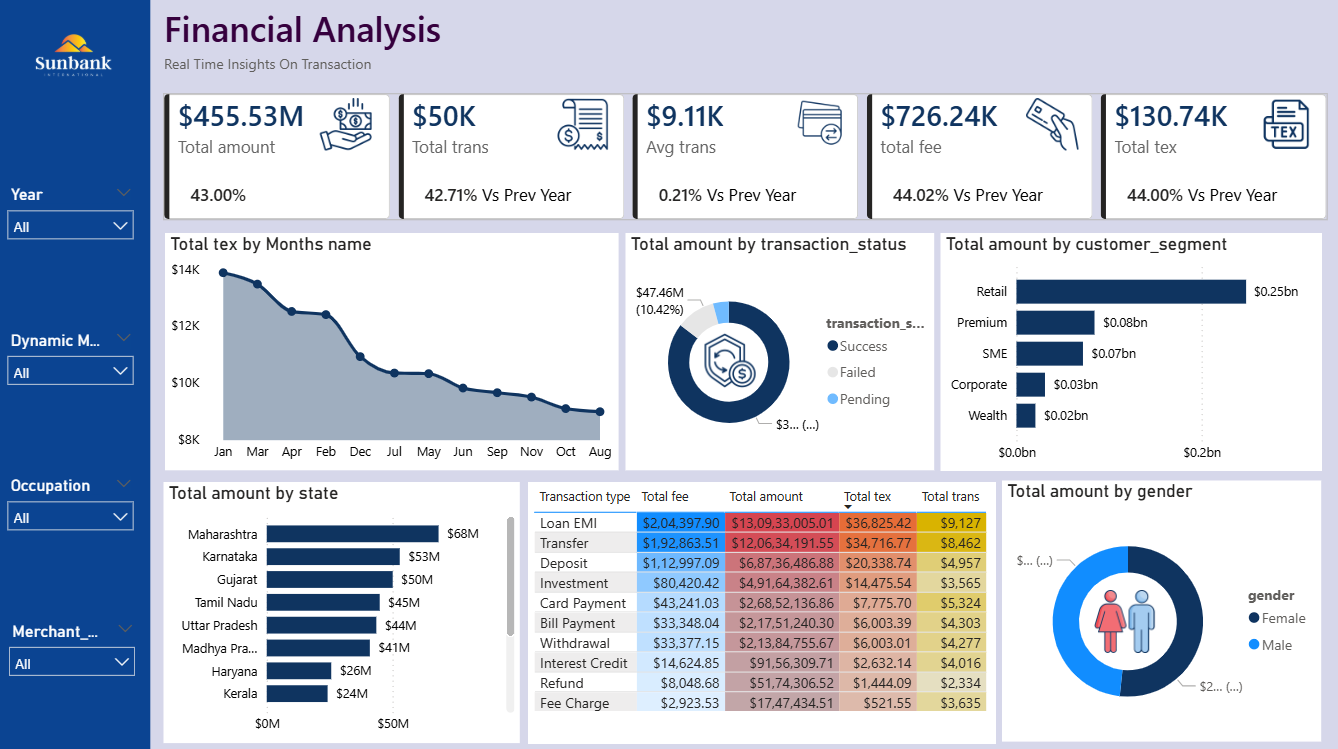

What the dashboard file says about the page in this screenshot:
{"tool":"powerbi","page":{"name":"Financial Overview","canvas":[1280,720],"ordinal":0},"visuals":[{"type":"shape","box":[140,0,1132.7,720],"z":0},{"type":"shape","box":[0,0,146,720],"z":1000},{"type":"slicer","fields":{"Values":["Date Table.Year"]},"box":[0,174.7,140,60],"z":2000},{"type":"cardVisual","fields":{"Data":["Table.Total amount","Table.Total trans","Table.Avg trans","Table.total fee","Table.Total tex"]},"box":[146.7,80.8,1133.3,143.3],"z":3000},{"type":"cardVisual","title":"ii","fields":{"Data":["Table.Title"]},"box":[140,0,311.7,81.7],"z":4000},{"type":"areaChart","fields":{"Y":["Table.Total tex"],"Category":["Date Table.Months name"]},"box":[160,225,432,226],"z":5000},{"type":"donutChart","fields":{"Y":["Table.Total amount"],"Category":["finance_transactions.transaction_status"]},"box":[598,225,294,226],"z":6000},{"type":"clusteredBarChart","fields":{"Y":["Table.Total amount"],"Category":["customers.customer_segment"]},"box":[898.3,225,363.3,226.7],"z":7000},{"type":"clusteredBarChart","fields":{"Category":["customers.state"],"Y":["Table.Total amount"]},"box":[159.2,462.5,339.2,248.3],"z":8000},{"type":"tableEx","fields":{"Values":["finance_transactions.transaction_type","Table.total fee","Table.Total amount","Table.Total tex","Table.Total trans"]},"box":[505.8,462.5,445,248.3],"z":9000},{"type":"slicer","fields":{"Values":["Matrix.Matrix"]},"box":[0,313,140,60],"z":10000},{"type":"image","box":[0,0,146,114.7],"z":11000},{"type":"slicer","fields":{"Values":["customers.occupation"]},"box":[0,451.3,140,60],"z":12000},{"type":"slicer","fields":{"Values":["finance_transactions.merchant_category"]},"box":[0.9,589.7,140,60],"z":13000},{"type":"image","box":[306.5,96.5,50,50],"z":14000},{"type":"image","box":[759,95.5,50,50],"z":15000},{"type":"image","box":[1203.5,96.5,50,50],"z":16000},{"type":"image","box":[980.5,96.5,50,50],"z":17000},{"type":"image","box":[533,96.5,50,50],"z":18000},{"type":"donutChart","fields":{"Y":["Table.Total amount"],"Category":["customers.gender"]},"box":[957.5,461.7,304.2,248.3],"z":19000},{"type":"image","box":[1039.2,565.4,70,60],"z":20000},{"type":"image","box":[663.3,317.3,70,60],"z":21000}]}

Visuals, with their boxes in screenshot pixels (x1, y1, x2, y2), scaled from the page's 1280x720 canvas onto the 1338x749 screenshot:
shape: <bbox>146, 0, 1330, 748</bbox>
shape: <bbox>0, 0, 153, 748</bbox>
slicer - Date Table.Year: <bbox>0, 182, 146, 244</bbox>
cardVisual - Table.Total amount x Table.Total trans: <bbox>153, 84, 1337, 233</bbox>
"ii" cardVisual: <bbox>146, 0, 472, 85</bbox>
areaChart - Table.Total tex x Date Table.Months name: <bbox>167, 234, 619, 469</bbox>
donutChart - Table.Total amount x finance_transactions.transaction_status: <bbox>625, 234, 932, 469</bbox>
clusteredBarChart - Table.Total amount x customers.customer_segment: <bbox>939, 234, 1319, 470</bbox>
clusteredBarChart - customers.state x Table.Total amount: <bbox>166, 481, 521, 739</bbox>
tableEx - finance_transactions.transaction_type x Table.total fee: <bbox>529, 481, 994, 739</bbox>
slicer - Matrix.Matrix: <bbox>0, 326, 146, 388</bbox>
image: <bbox>0, 0, 153, 119</bbox>
slicer - customers.occupation: <bbox>0, 469, 146, 532</bbox>
slicer - finance_transactions.merchant_category: <bbox>1, 613, 147, 676</bbox>
image: <bbox>320, 100, 373, 152</bbox>
image: <bbox>793, 99, 846, 151</bbox>
image: <bbox>1258, 100, 1310, 152</bbox>
image: <bbox>1025, 100, 1077, 152</bbox>
image: <bbox>557, 100, 609, 152</bbox>
donutChart - Table.Total amount x customers.gender: <bbox>1001, 480, 1319, 739</bbox>
image: <bbox>1086, 588, 1159, 651</bbox>
image: <bbox>693, 330, 767, 392</bbox>
